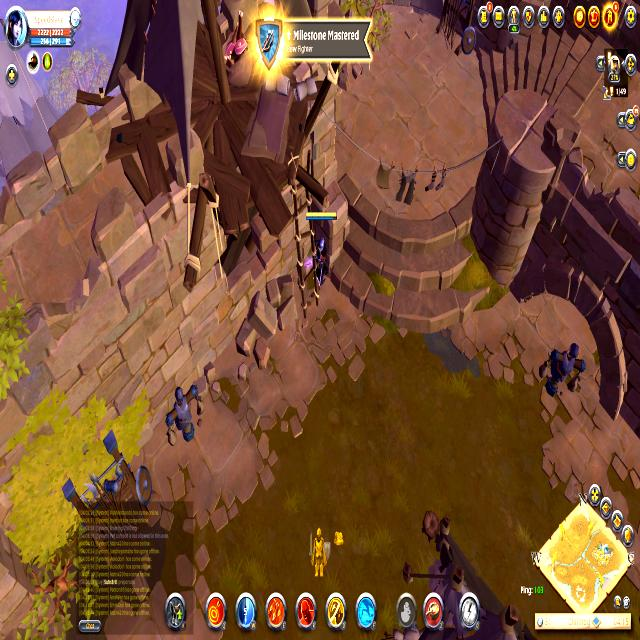red: (302, 206, 338, 294)
